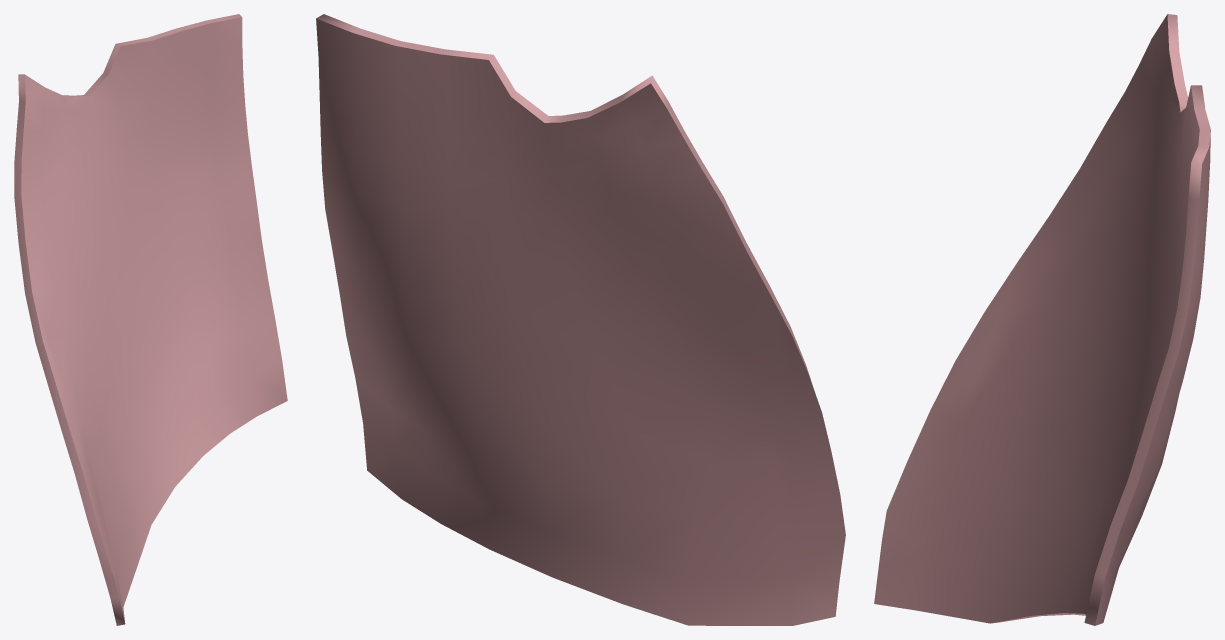
3 views of the same model, side by side, from view 1: azimuth 30°, elevation 25°; view 2: azimuth 150°, elevation 25°; view 3: azimuth 270°, elevation 25° (orthographic). The views are drawn at different scales.
Parts seen in each view (by area): view 1: ZA_5f215560d96c3946; view 2: ZA_5f215560d96c3946; view 3: ZA_5f215560d96c3946.
Boxes of the visible parts, <box> form: ZA_5f215560d96c3946: <box>14,14,287,625</box>; ZA_5f215560d96c3946: <box>316,14,845,625</box>; ZA_5f215560d96c3946: <box>874,14,1210,625</box>.
Bounding box in the file's own units: 0.1113 × 0.1782 × 0.0906.
